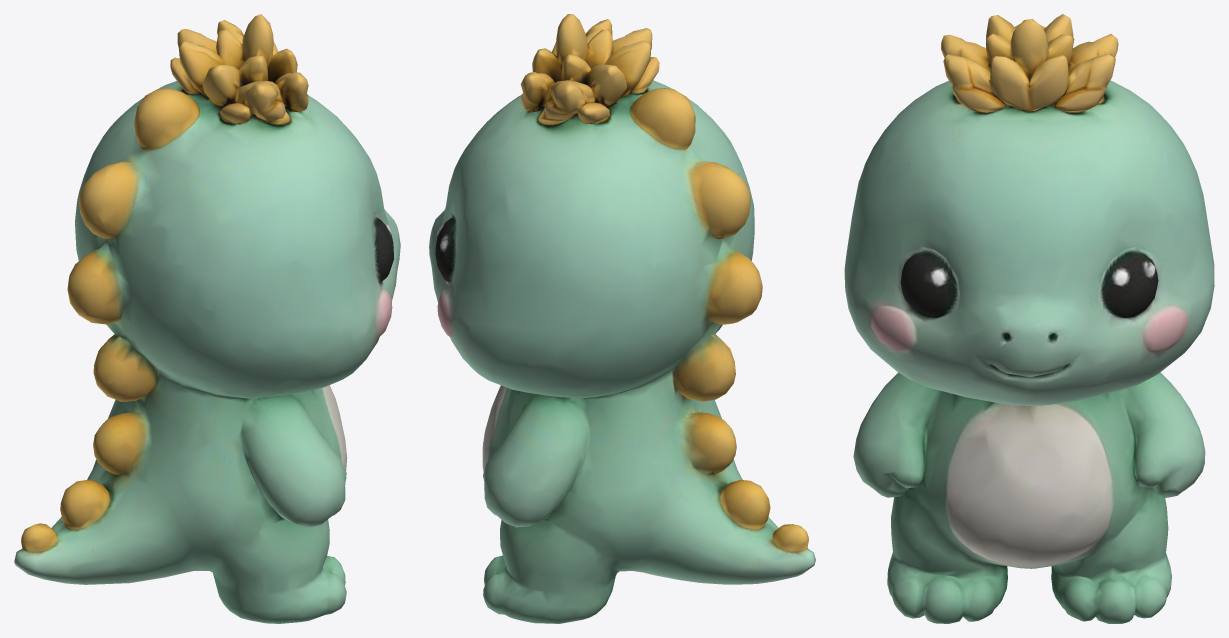
The model's file is mint-star-dino.glb.
3 renders of one model, left to right at view 1: azimuth 30°, elevation 25°; view 2: azimuth 150°, elevation 25°; view 3: azimuth 270°, elevation 25°, orthographic. The views are drawn at different scales.
Parts seen in each view (by area): view 1: tripo_node_b71d10d1-bc96-4a71-92b6-3f4f35bb4979; view 2: tripo_node_b71d10d1-bc96-4a71-92b6-3f4f35bb4979; view 3: tripo_node_b71d10d1-bc96-4a71-92b6-3f4f35bb4979.
Part boxes in pixels (left/top/right/bottom): tripo_node_b71d10d1-bc96-4a71-92b6-3f4f35bb4979: left=14, top=14, right=400, bottom=623; tripo_node_b71d10d1-bc96-4a71-92b6-3f4f35bb4979: left=429, top=14, right=815, bottom=623; tripo_node_b71d10d1-bc96-4a71-92b6-3f4f35bb4979: left=844, top=14, right=1214, bottom=623.
Size of the model in its own units: 0.7047 by 1 by 0.5691.
Materials: 1 (1 with a texture image).
